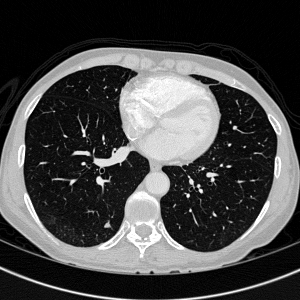nodule: (105, 223, 109, 227)
